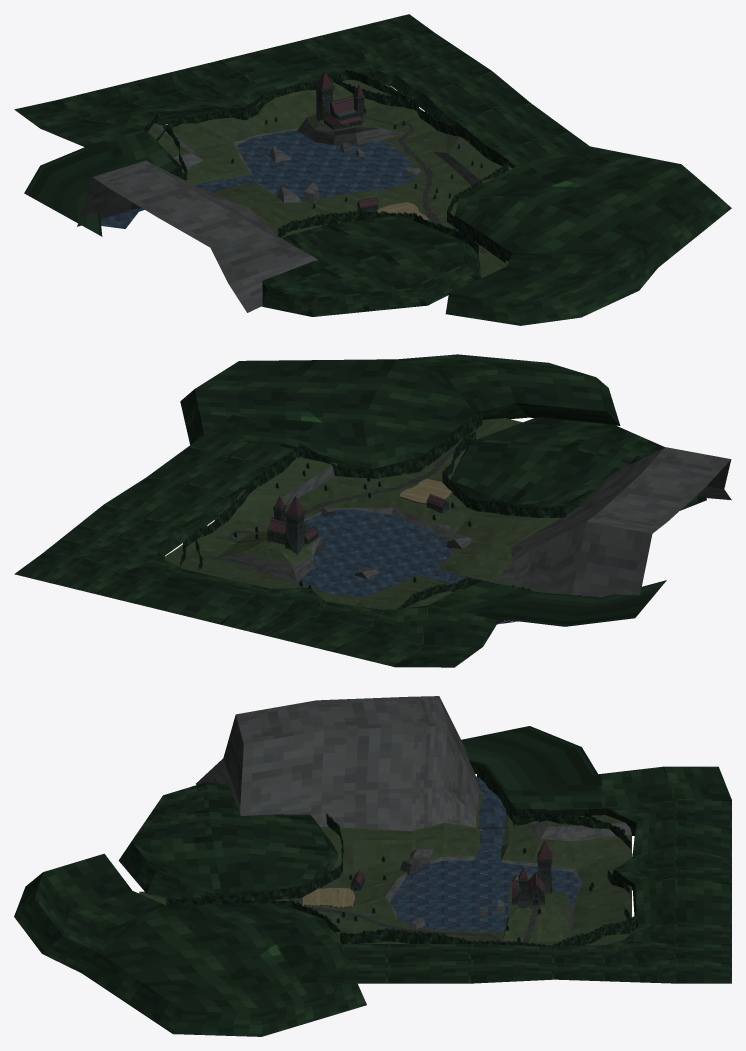
File: lowpoly-castle.glb
3 renders of one model, top to bottom at view 1: azimuth 30°, elevation 25°; view 2: azimuth 150°, elevation 25°; view 3: azimuth 270°, elevation 25°, orthographic. The views are drawn at different scales.
Parts seen in each view (by area): view 1: Cube; view 2: Cube; view 3: Cube.
Boxes of the visible parts, x1,y1,x2,y2 form: Cube: [14, 14, 731, 325]; Cube: [14, 354, 731, 667]; Cube: [14, 696, 731, 1036].
Size of the model in its own units: 342 by 44.95 by 365.
Materials: 1 (1 with a texture image).
